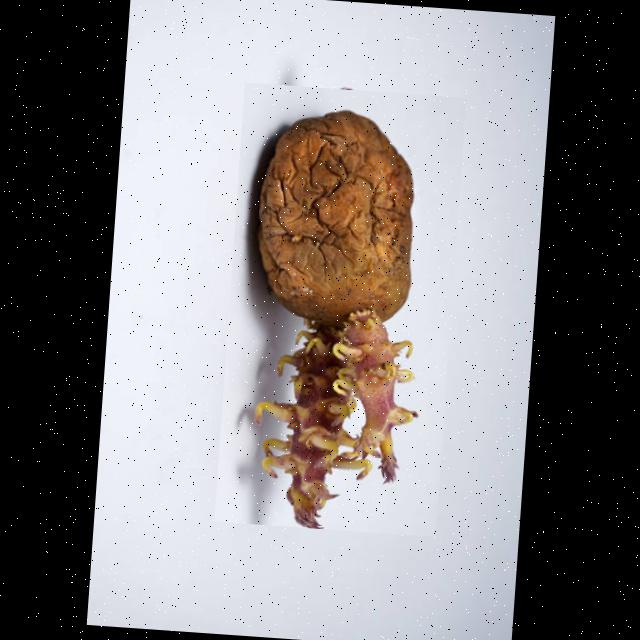Sprouted potato: (213, 82, 465, 536)
